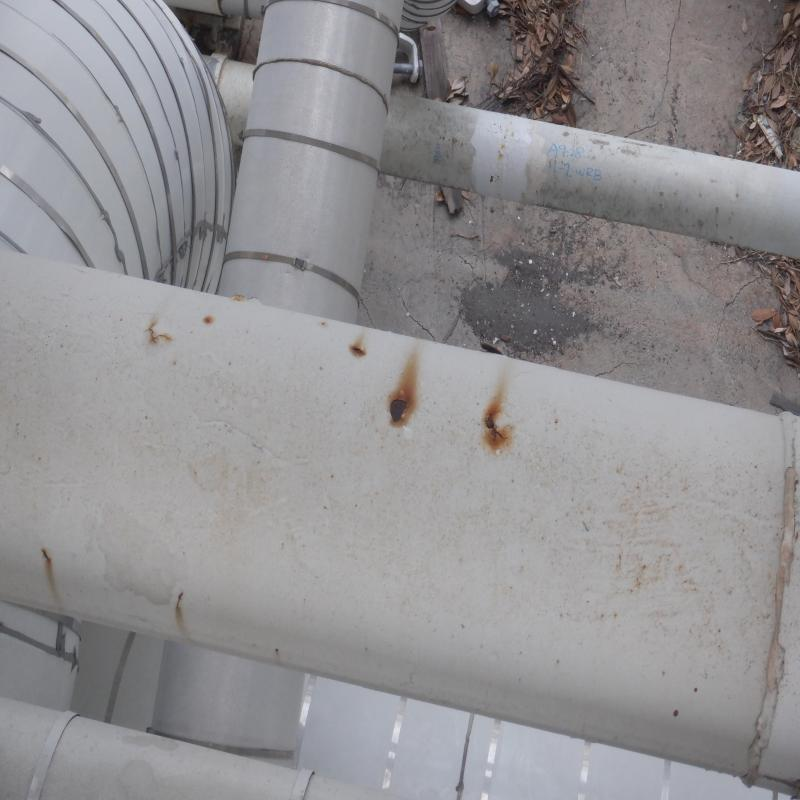corrosion: (387, 394, 412, 428), (484, 412, 507, 444)
